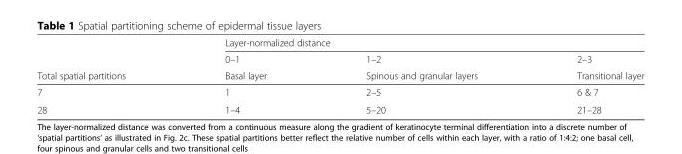table: (36, 36, 643, 115)
table column: (315, 36, 526, 115), (174, 36, 315, 115), (36, 36, 174, 115), (526, 36, 643, 115)
table column header: (36, 36, 643, 83)
table row: (36, 66, 643, 83), (36, 83, 643, 100), (36, 50, 643, 66), (36, 100, 643, 115), (36, 36, 643, 50)
table spanning cell: (315, 50, 526, 83), (174, 36, 643, 50), (36, 36, 174, 83), (174, 50, 315, 83), (526, 50, 643, 83)
